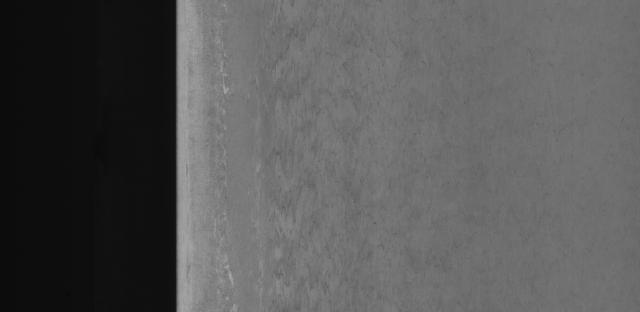silk_spot: (246, 5, 430, 306)
